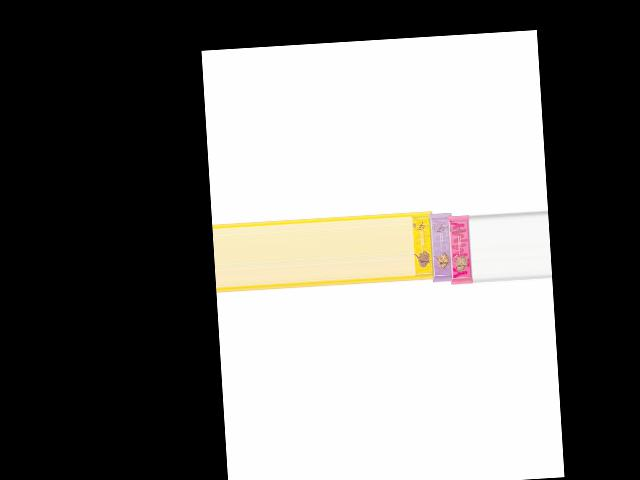chocolate: (447, 211, 474, 289)
